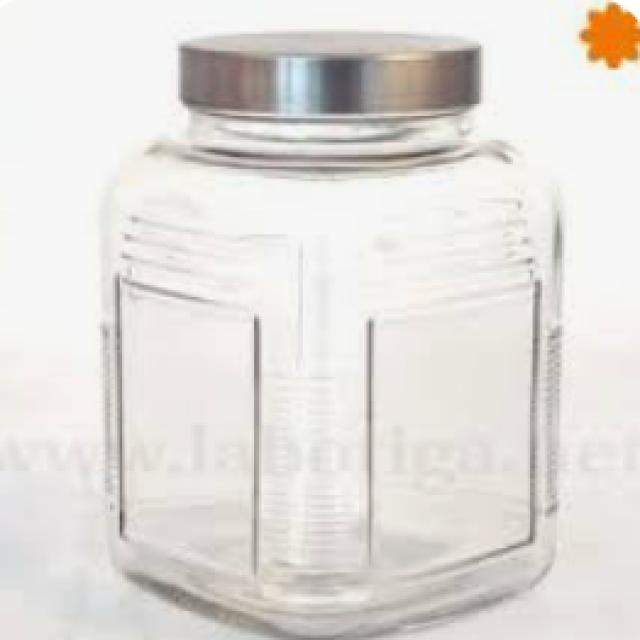ToplesKaca: (95, 27, 567, 638)
